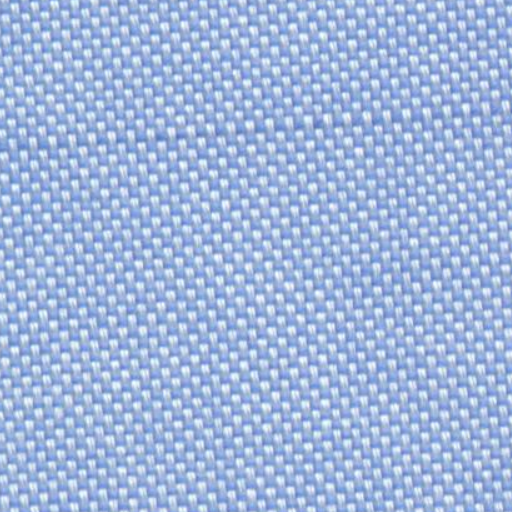TuoSha: (21, 86, 492, 168)
